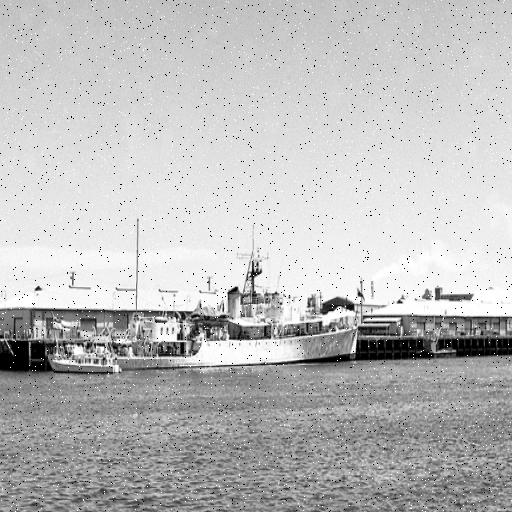Fragata: (1, 214, 368, 371)
